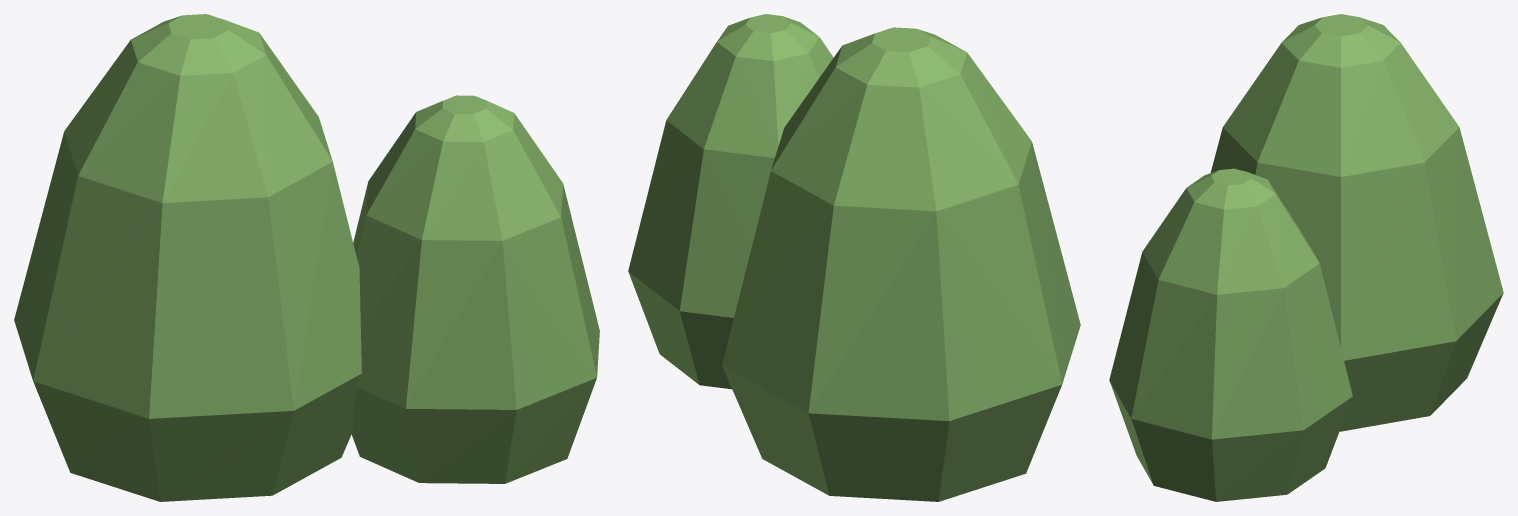
Rendered from shrub-0.glb.
3 views of the same model, side by side, from view 1: azimuth 30°, elevation 25°; view 2: azimuth 150°, elevation 25°; view 3: azimuth 270°, elevation 25° (orthographic). The views are drawn at different scales.
Visible parts, largest first — view 1: shrub-0; view 2: shrub-0; view 3: shrub-0.
Boxes of the visible parts, x1,y1,x2,y2 form: shrub-0: (14,14,599,501); shrub-0: (628,14,1080,501); shrub-0: (1109,14,1503,501).
Bounding box in the file's own units: 0.8767 × 0.708 × 0.7167.
